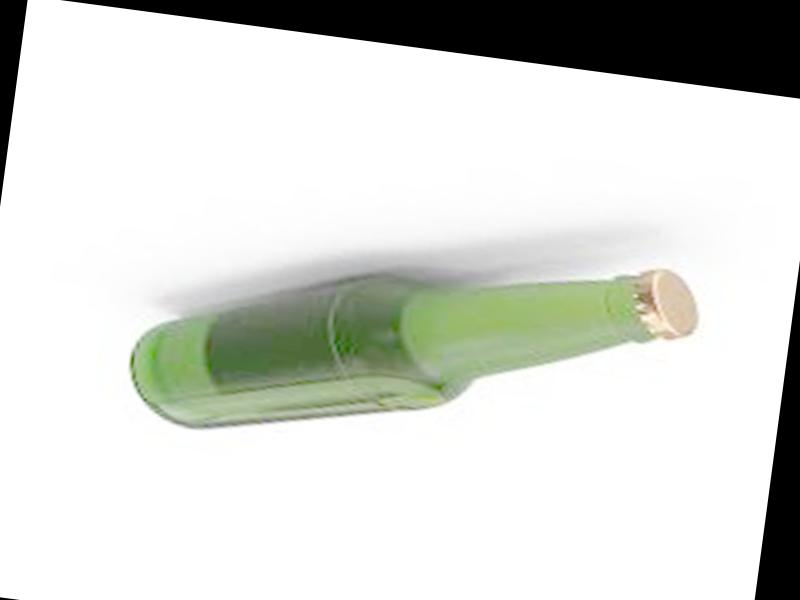Beer: (121, 199, 707, 493)
